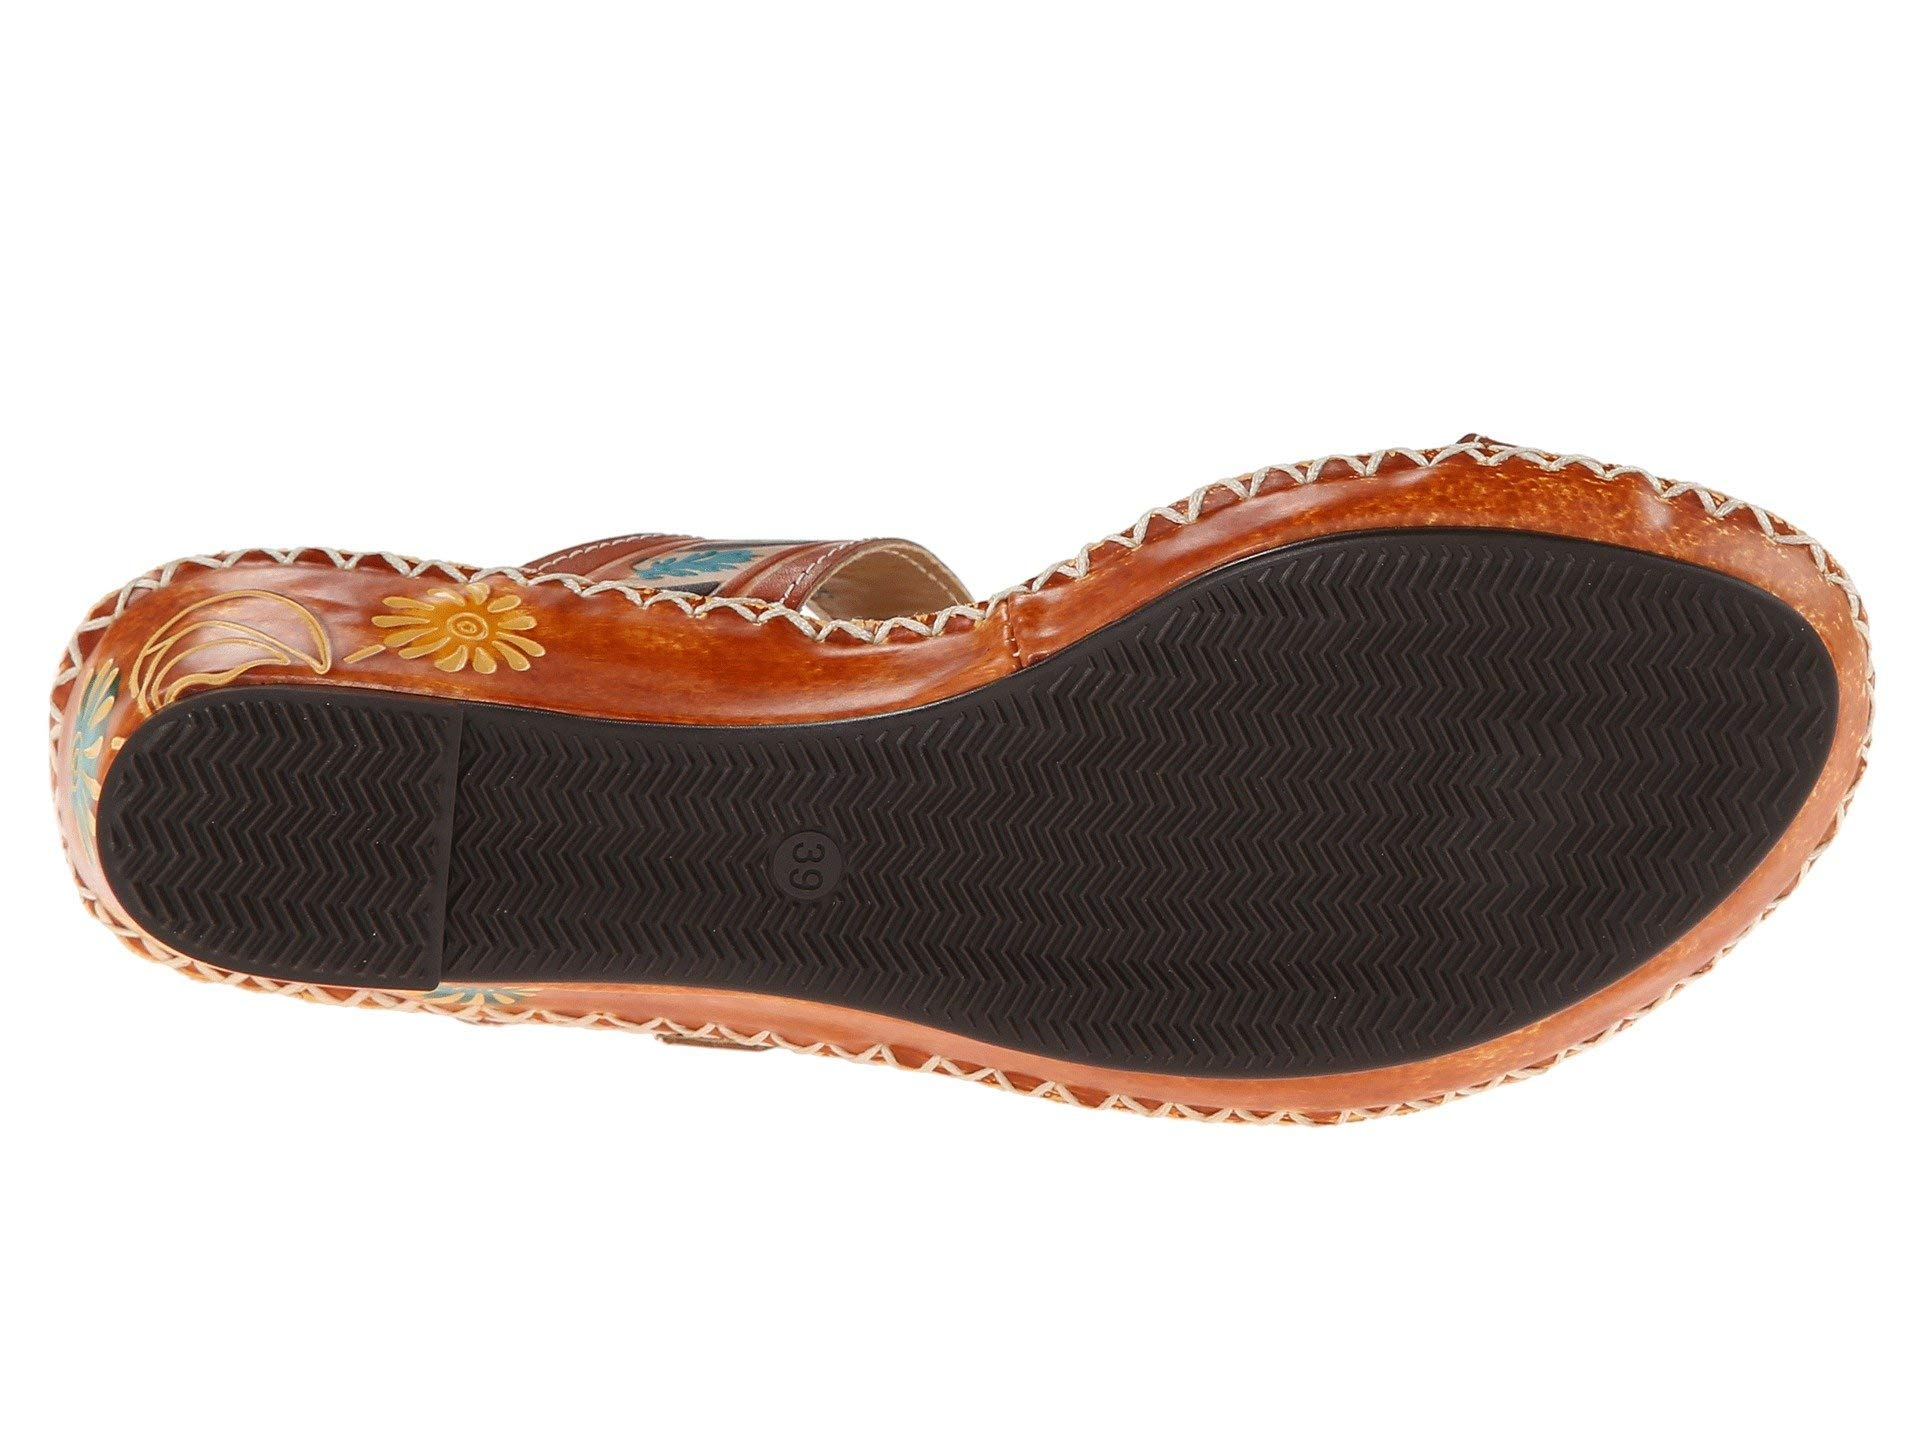chevron: (1253, 602, 1622, 980), (694, 758, 906, 985)
circle: (694, 758, 906, 985)
text: (694, 758, 906, 985)
